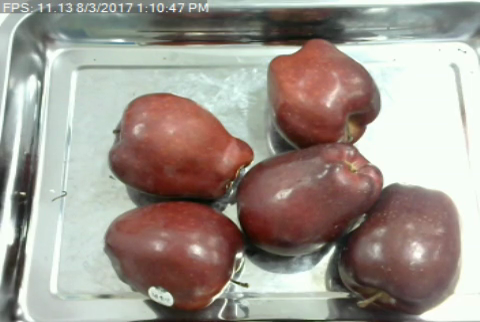Apple: (233, 140, 386, 258), (334, 180, 465, 313), (106, 89, 255, 201), (101, 199, 247, 312), (264, 35, 383, 151)
